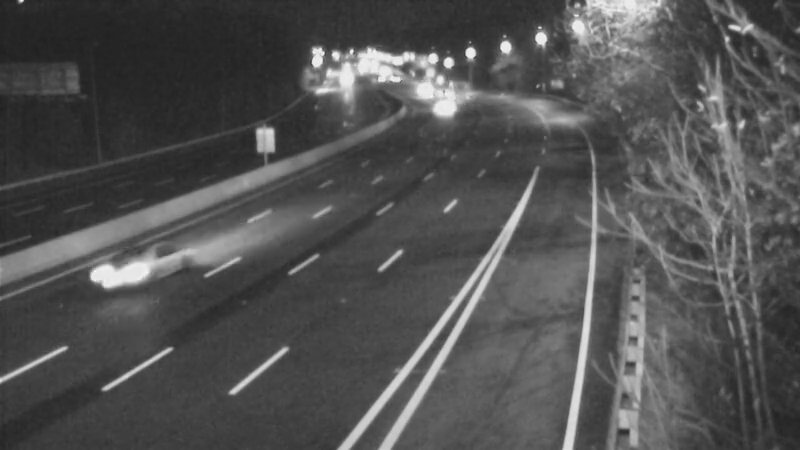vehicle: (84, 232, 164, 312), (394, 61, 444, 111), (432, 64, 482, 114), (420, 83, 470, 133)
